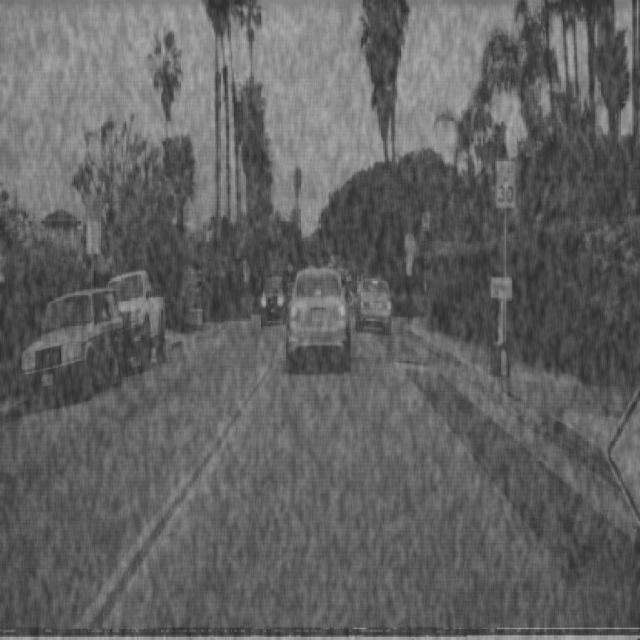speedLimit30: (495, 158, 517, 210)
